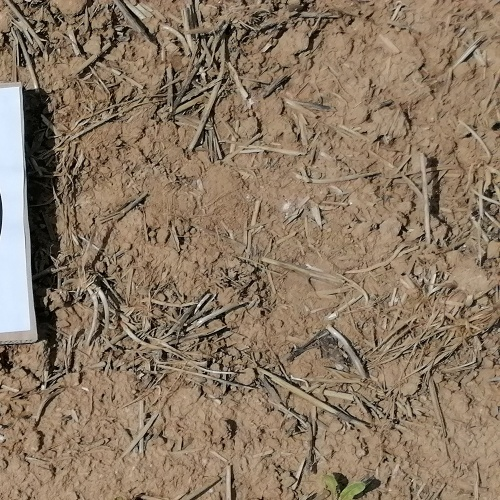beet: (323, 472, 366, 500)
